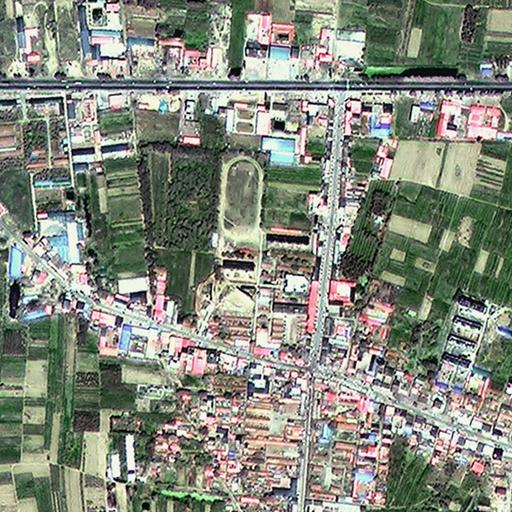school: (220, 154, 312, 345)
